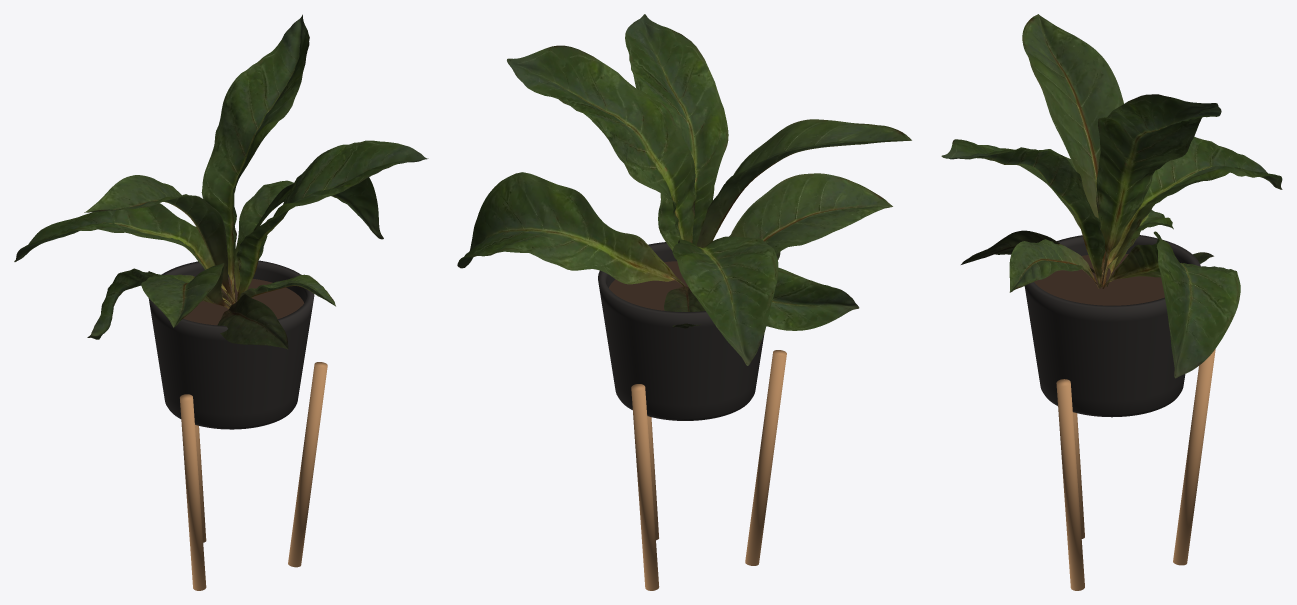
Rendered from plant-anthurium.glb.
3 views of the same model, side by side, from view 1: azimuth 30°, elevation 25°; view 2: azimuth 150°, elevation 25°; view 3: azimuth 270°, elevation 25° (orthographic). The views are drawn at different scales.
Visible parts, largest first — view 1: anthurium_botany_01_b, pot, leg.002, leg.001, soil; view 2: anthurium_botany_01_b, pot, leg.001, leg, soil; view 3: anthurium_botany_01_b, pot, soil, leg.002, leg, leg.001.
Boxes of the visible parts, x1=… form: anthurium_botany_01_b: x1=14, y1=14, x2=428, y2=349; pot: x1=148, y1=260, x2=314, y2=429; leg.002: x1=288, y1=362, x2=327, y2=567; leg.001: x1=180, y1=394, x2=206, y2=590; soil: x1=183, y1=277, x2=303, y2=325; anthurium_botany_01_b: x1=457, y1=14, x2=911, y2=365; pot: x1=598, y1=242, x2=764, y2=420; leg.001: x1=745, y1=350, x2=786, y2=565; leg: x1=631, y1=384, x2=659, y2=590; soil: x1=609, y1=261, x2=688, y2=310; anthurium_botany_01_b: x1=941, y1=14, x2=1282, y2=378; pot: x1=1024, y1=235, x2=1200, y2=417; soil: x1=1034, y1=254, x2=1164, y2=305; leg.002: x1=1056, y1=379, x2=1084, y2=590; leg: x1=1173, y1=349, x2=1215, y2=565; leg.001: x1=1073, y1=412, x2=1084, y2=538.
Size of the model in its own units: 0.7567 by 0.9667 by 0.5716.
4 materials, 1 textured.
